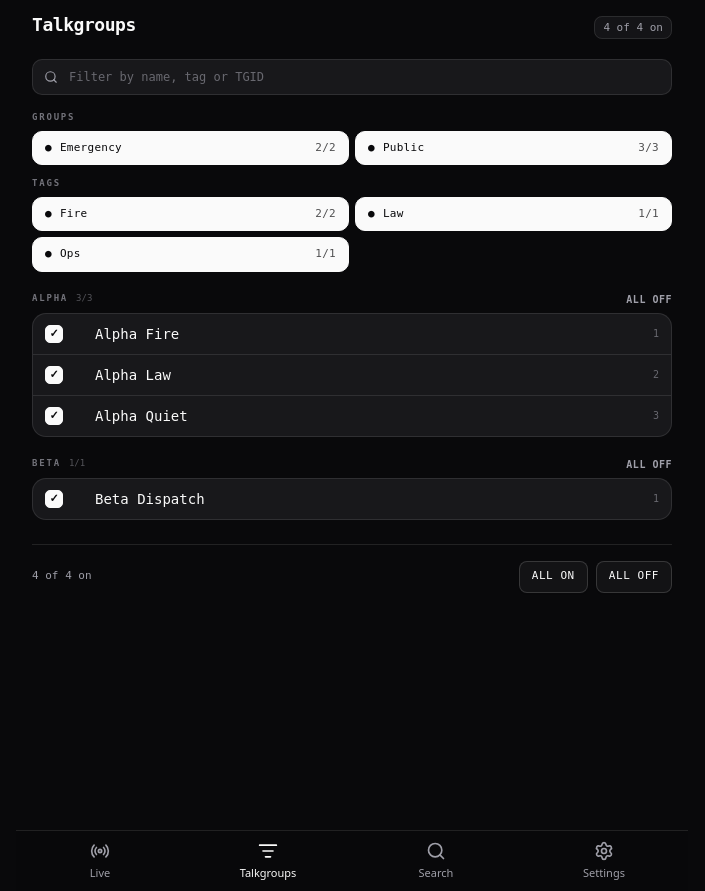
Test: TalkgroupsScreen (#12, spec US 19–22) › says so when a filter matches nothing
This screenshot has width=705, height=891.
In the search field labelled "Filter by name, tag or TGID": (352, 77) [32,59,672,95], type "zzz"
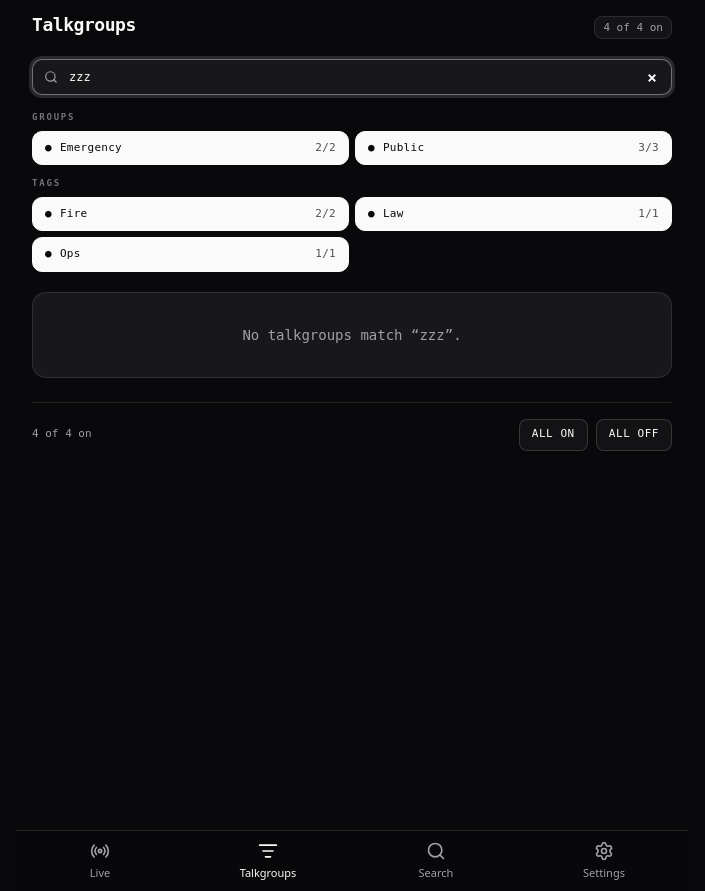
Expected: the text "No talkgroups match “zzz”." is shown, [32,292,672,378]
